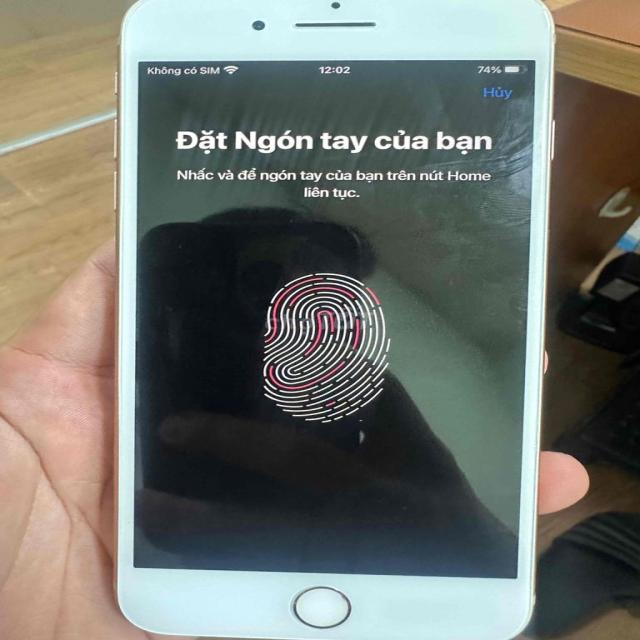scratch: (351, 420, 367, 447)
